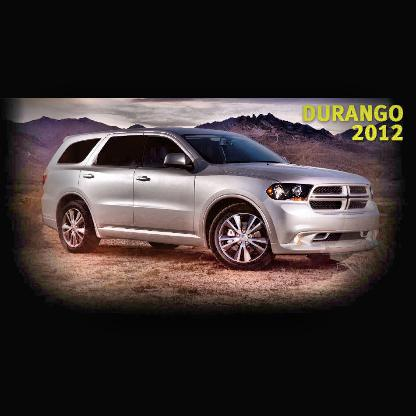Dodge Durango SUV 2012: (40, 126, 385, 274)
